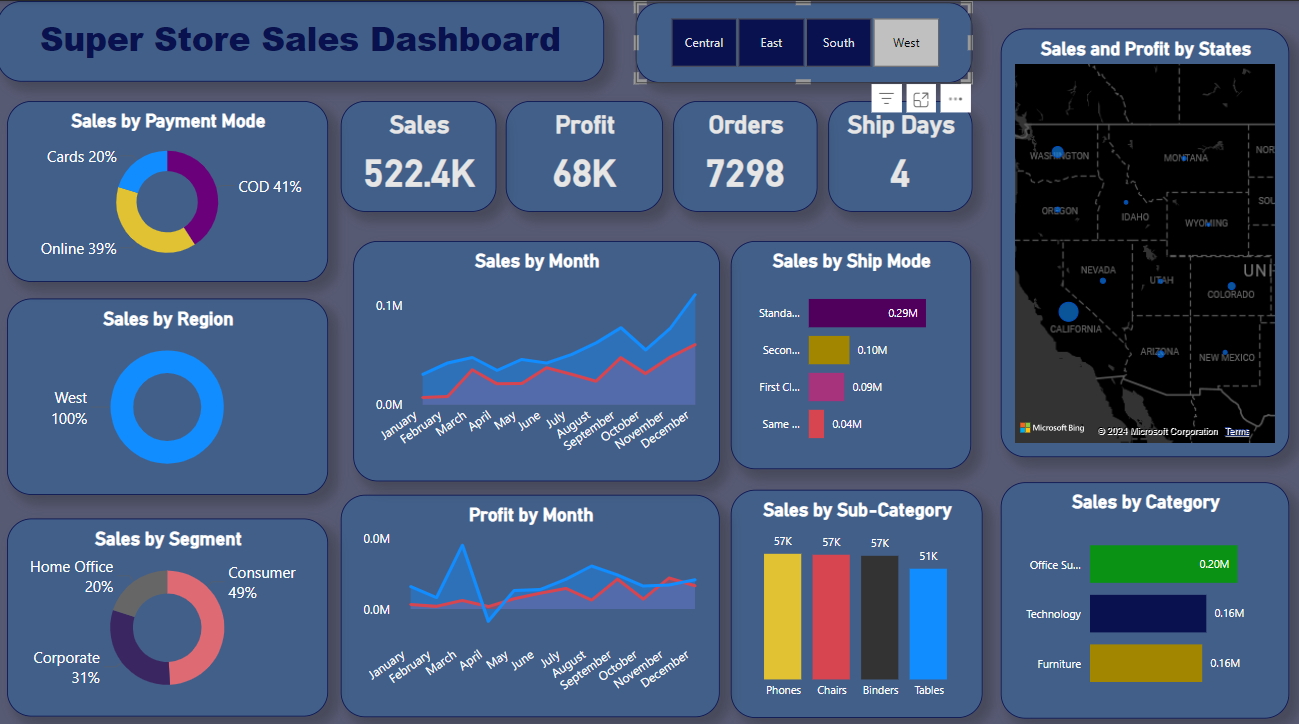

The page's visual inventory and layout, read from the dashboard file:
{"tool":"powerbi","page":{"name":"Dashboard","canvas":[1280,720],"ordinal":0},"visuals":[{"type":"textbox","box":[0,0,595.8,79.2],"z":0},{"type":"donutChart","title":"Sales by Payment Mode ","fields":{"Category":["SuperStore_Sales_Dataset.Payment Mode"],"Y":["CountNonNull(SuperStore_Sales_Dataset.Payment Mode)"]},"box":[9.7,98.6,315.3,177.8],"z":1000},{"type":"donutChart","title":"Sales by Region ","fields":{"Category":["SuperStore_Sales_Dataset.Region"],"Y":["CountNonNull(SuperStore_Sales_Dataset.Region)"]},"box":[9.7,291.7,315.3,193.1],"z":2000},{"type":"donutChart","title":"Sales by Segment","fields":{"Category":["SuperStore_Sales_Dataset.Segment"],"Y":["CountNonNull(SuperStore_Sales_Dataset.Segment)"]},"box":[9.7,508.3,315.3,194.4],"z":3000},{"type":"barChart","title":"Sales by Ship Mode","fields":{"Category":["SuperStore_Sales_Dataset.Ship Mode"],"Y":["Sum(SuperStore_Sales_Dataset.Sales)"]},"box":[720.8,236.1,236.1,223.6],"z":4000},{"type":"barChart","title":"Sales by Category","fields":{"Category":["SuperStore_Sales_Dataset.Category"],"Y":["Sum(SuperStore_Sales_Dataset.Sales)"]},"box":[984.7,472.2,283.3,231.9],"z":5000},{"type":"columnChart","title":"Sales by Sub-Category","fields":{"Category":["SuperStore_Sales_Dataset.Sub-Category"],"Y":["Sum(SuperStore_Sales_Dataset.Sales)"]},"box":[720.8,479.2,247.2,223.6],"z":6000},{"type":"card","title":"Sales","fields":{"Values":["SuperStore_Sales_Dataset.Total Sales"]},"box":[337.1,98.6,152.9,108.6],"z":7000},{"type":"card","title":"Profit","fields":{"Values":["Sum(SuperStore_Sales_Dataset.Profit)"]},"box":[500,98.6,154.3,108.6],"z":8000},{"type":"card","title":"Orders","fields":{"Values":["Sum(SuperStore_Sales_Dataset.Quantity)"]},"box":[664.3,98.6,141.4,108.6],"z":9000},{"type":"card","title":"Ship Days ","fields":{"Values":["SuperStore_Sales_Dataset.Shipday"]},"box":[815.7,98.6,141.4,108.6],"z":10000},{"type":"slicer","fields":{"Values":["SuperStore_Sales_Dataset.Region"]},"box":[626.4,1.4,330.6,79.2],"z":11000},{"type":"map","title":"Sales and Profit by States","fields":{"Category":["SuperStore_Sales_Dataset.State"],"Size":["Sum(SuperStore_Sales_Dataset.Sales)"]},"box":[984.7,26.4,283.3,420.8],"z":12000},{"type":"areaChart","title":" Sales by Month ","fields":{"Category":["SuperStore_Sales_Dataset.Order Date.Variation.Date Hierarchy.Month"],"Series":["SuperStore_Sales_Dataset.Order Date.Variation.Date Hierarchy.Year"],"Y":["Sum(SuperStore_Sales_Dataset.Sales)"]},"box":[350,236.1,359.7,236.1],"z":13000},{"type":"areaChart","title":"Profit  by Month ","fields":{"Category":["SuperStore_Sales_Dataset.Order Date.Variation.Date Hierarchy.Month"],"Series":["SuperStore_Sales_Dataset.Order Date.Variation.Date Hierarchy.Year"],"Y":["Sum(SuperStore_Sales_Dataset.Profit)"]},"box":[337.5,484.7,372.2,218.1],"z":14000}]}

Visuals, with their boxes in screenshot pixels (x1, y1, x2, y2), scaled from the page's 1280x720 canvas onto the 1299x724 screenshot:
textbox: <region>0, 0, 605, 80</region>
"Sales by Payment Mode " donutChart: <region>10, 99, 330, 278</region>
"Sales by Region " donutChart: <region>10, 293, 330, 487</region>
"Sales by Segment" donutChart: <region>10, 511, 330, 707</region>
"Sales by Ship Mode" barChart: <region>731, 237, 971, 462</region>
"Sales by Category" barChart: <region>999, 475, 1287, 708</region>
"Sales by Sub-Category" columnChart: <region>731, 482, 982, 707</region>
"Sales" card: <region>342, 99, 497, 208</region>
"Profit" card: <region>507, 99, 664, 208</region>
"Orders" card: <region>674, 99, 818, 208</region>
"Ship Days " card: <region>828, 99, 971, 208</region>
slicer - SuperStore_Sales_Dataset.Region: <region>636, 1, 971, 81</region>
"Sales and Profit by States" map: <region>999, 27, 1287, 450</region>
" Sales by Month " areaChart: <region>355, 237, 720, 475</region>
"Profit  by Month " areaChart: <region>343, 487, 720, 707</region>
